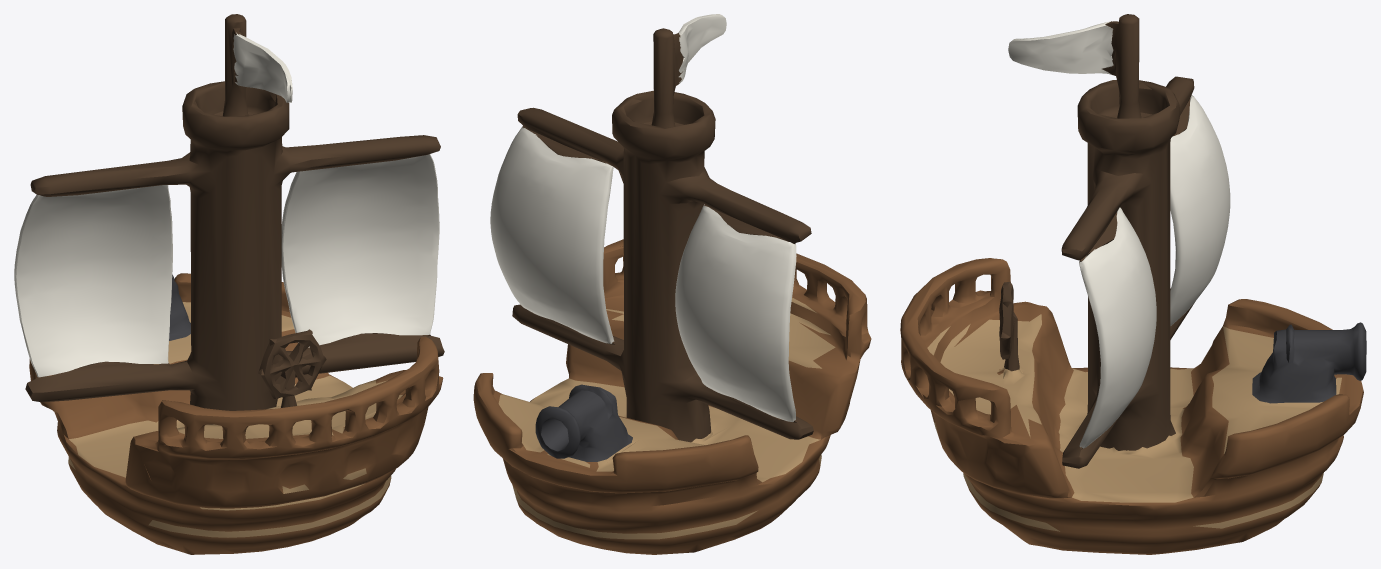
Rendered from ship.glb.
3 renders of one model, left to right at view 1: azimuth 30°, elevation 25°; view 2: azimuth 150°, elevation 25°; view 3: azimuth 270°, elevation 25°, orthographic. The views are drawn at different scales.
Parts seen in each view (by area): view 1: hull, mast, sail_port, sail_starboard, flag, cannon; view 2: hull, mast, sail_port, sail_starboard, cannon, flag; view 3: hull, mast, sail_starboard, sail_port, cannon, flag.
Part boxes in pixels (<box>): hull: <box>29,273,443,554</box>; mast: <box>25,14,444,424</box>; sail_port: <box>14,185,172,377</box>; sail_starboard: <box>281,154,439,347</box>; flag: <box>233,32,292,102</box>; cannon: <box>169,274,190,340</box>; hull: <box>473,239,871,554</box>; mast: <box>512,28,813,442</box>; sail_port: <box>675,205,796,421</box>; sail_starboard: <box>490,127,614,343</box>; cannon: <box>535,384,632,461</box>; flag: <box>678,14,726,82</box>; hull: <box>900,258,1363,554</box>; mast: <box>999,14,1195,468</box>; sail_starboard: <box>1079,207,1156,448</box>; sail_port: <box>1170,95,1230,325</box>; cannon: <box>1252,322,1366,403</box>; flag: <box>1008,21,1113,74</box>.
Bounding box in the file's own units: 0.9379 × 1.16 × 1.01.
